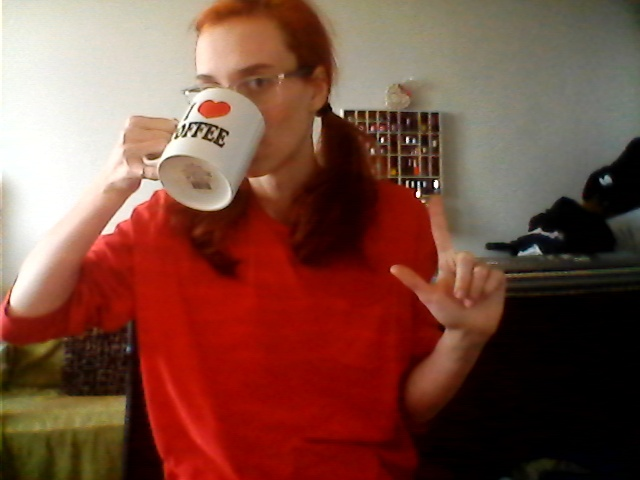l: (380, 192, 522, 328)
